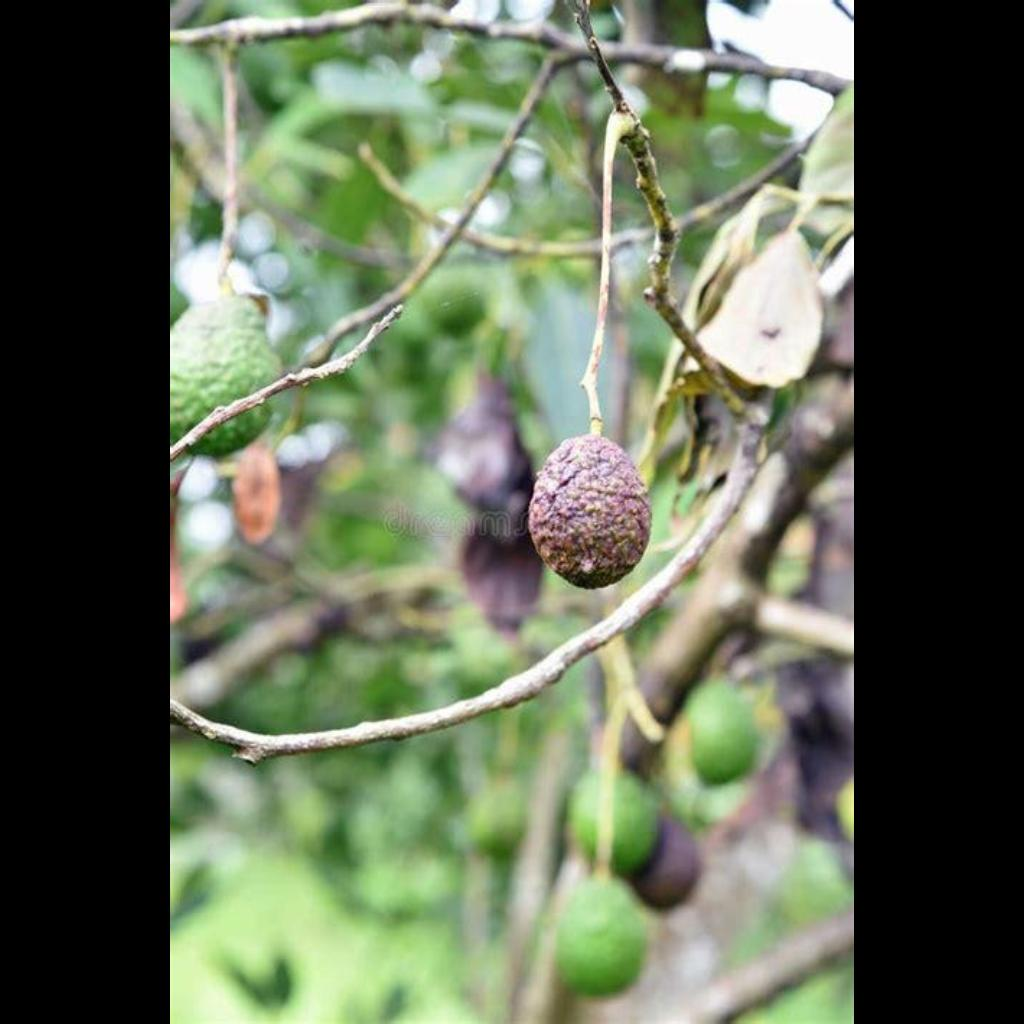antracnosis_fruto: (523, 424, 665, 596)
